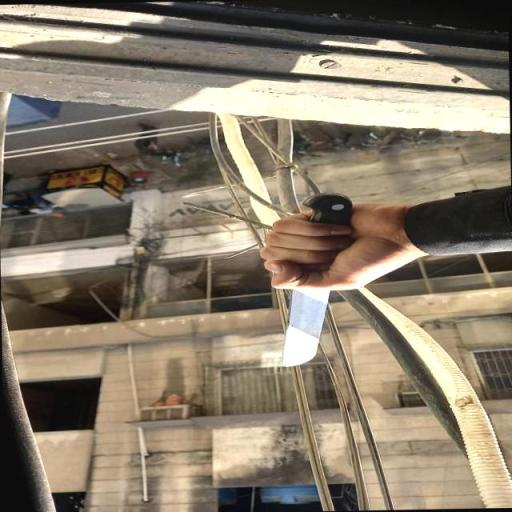knife: (270, 191, 364, 373)
